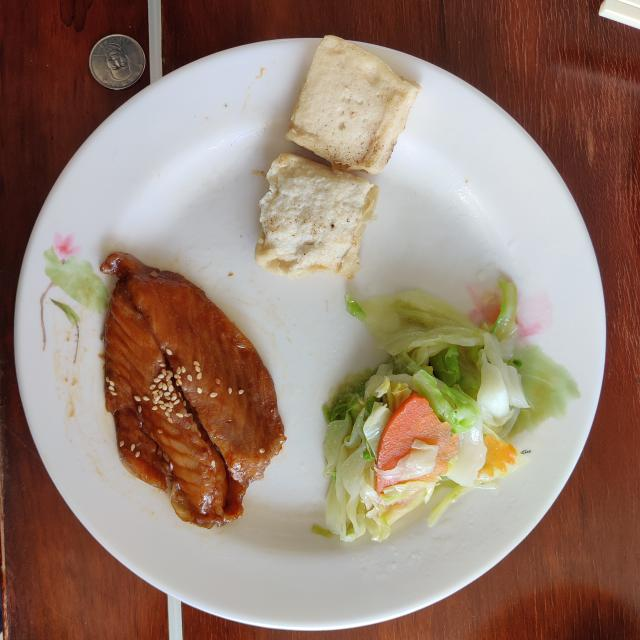Kabayaki sea bream fillet: (101, 252, 285, 528)
cabbage: (312, 281, 530, 541)
coin: (89, 34, 145, 90)
creamy tofu -without sauce-: (255, 36, 421, 279)
